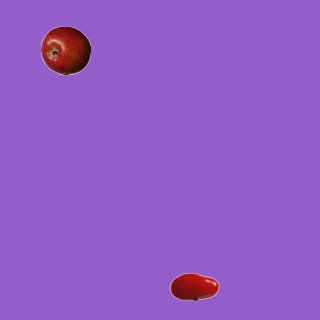Apple Braeburn: (40, 25, 90, 75)
Tomato 2: (169, 261, 219, 311)
